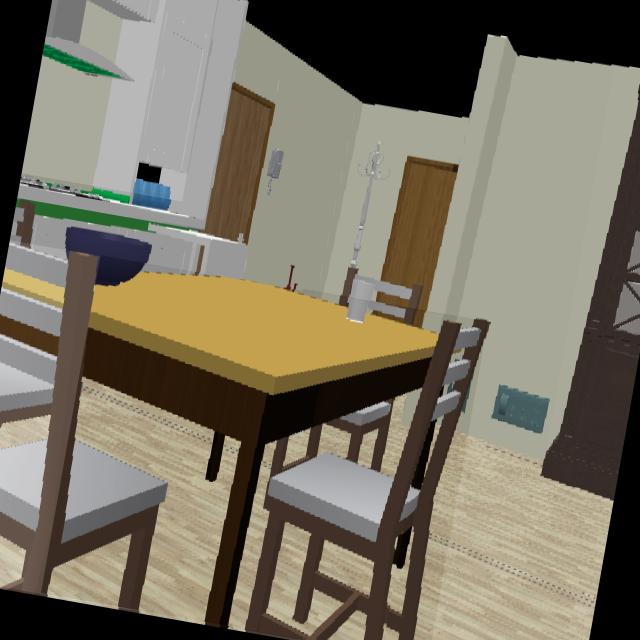bookshelf: (542, 87, 640, 498)
cabinet: (88, 0, 217, 192)
chair: (247, 320, 487, 640), (0, 243, 167, 611)
table: (84, 273, 437, 624)
